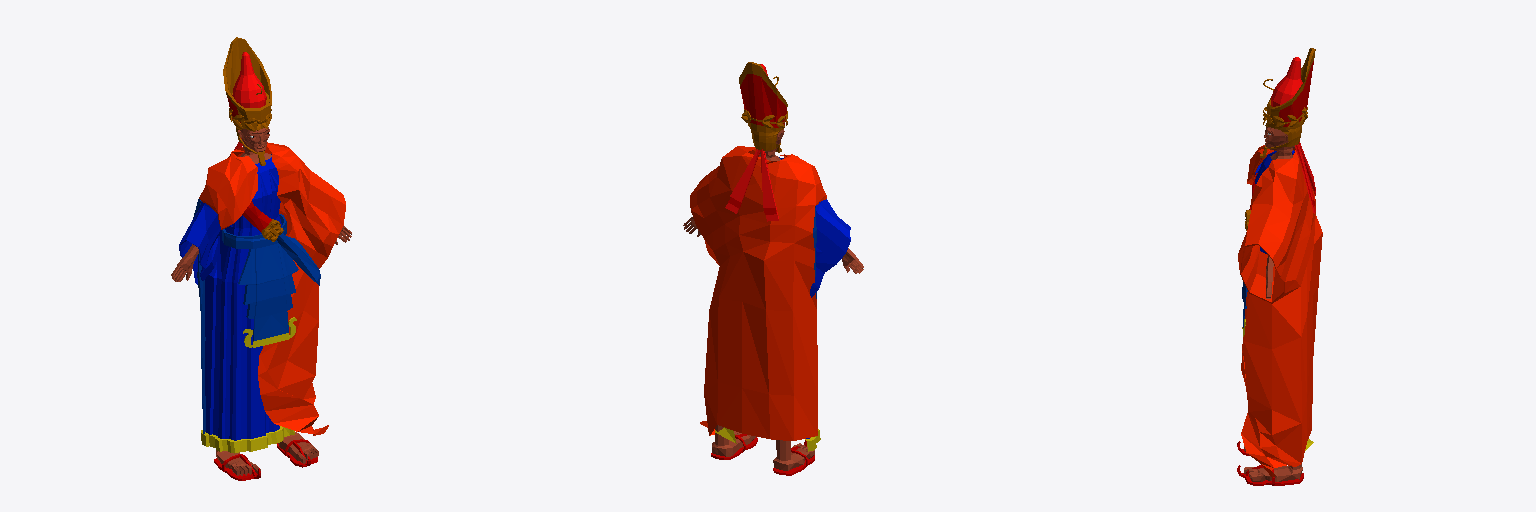
File: Pharaoh_By_Sielxm3d.obj
The picture shows the model from 3 angles: view 1: azimuth 30°, elevation 25°; view 2: azimuth 150°, elevation 25°; view 3: azimuth 270°, elevation 25°; orthographic projection.
Parts seen in each view (by area): view 1: Cube.000; view 2: Cube.000; view 3: Cube.000.
Boxes of the visible parts, x1=… form: Cube.000: x1=171, y1=37, x2=351, y2=480; Cube.000: x1=683, y1=62, x2=863, y2=475; Cube.000: x1=1237, y1=48, x2=1322, y2=485.
Size of the model in its own units: 16.28 by 35.68 by 6.72.